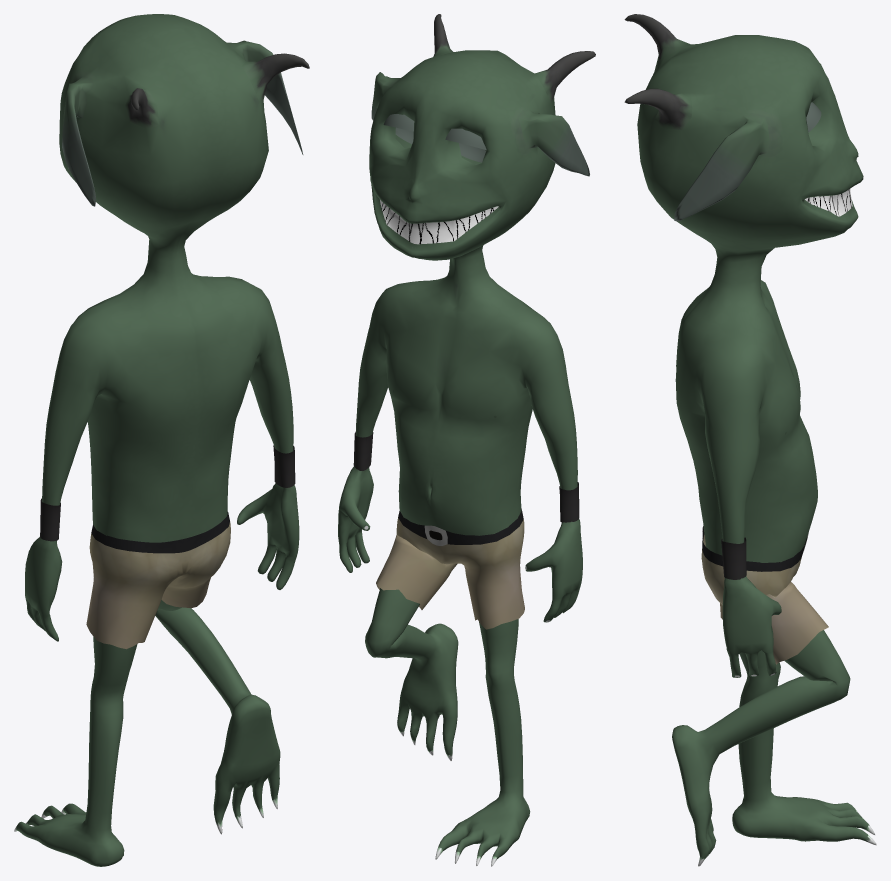
Rendered from lwjglcharactergoblin11_000020.obj.
3 views of the same model, side by side, from view 1: azimuth 30°, elevation 25°; view 2: azimuth 150°, elevation 25°; view 3: azimuth 270°, elevation 25° (orthographic). The views are drawn at different scales.
Parts seen in each view (by area): view 1: Cube.002; view 2: Cube.002; view 3: Cube.002.
Boxes of the visible parts, box(x1,y1,x2,y2) form: Cube.002: box(14, 14, 309, 866); Cube.002: box(338, 14, 595, 866); Cube.002: box(624, 14, 876, 866).
Size of the model in its own units: 1.25 by 3.82 by 1.06.
